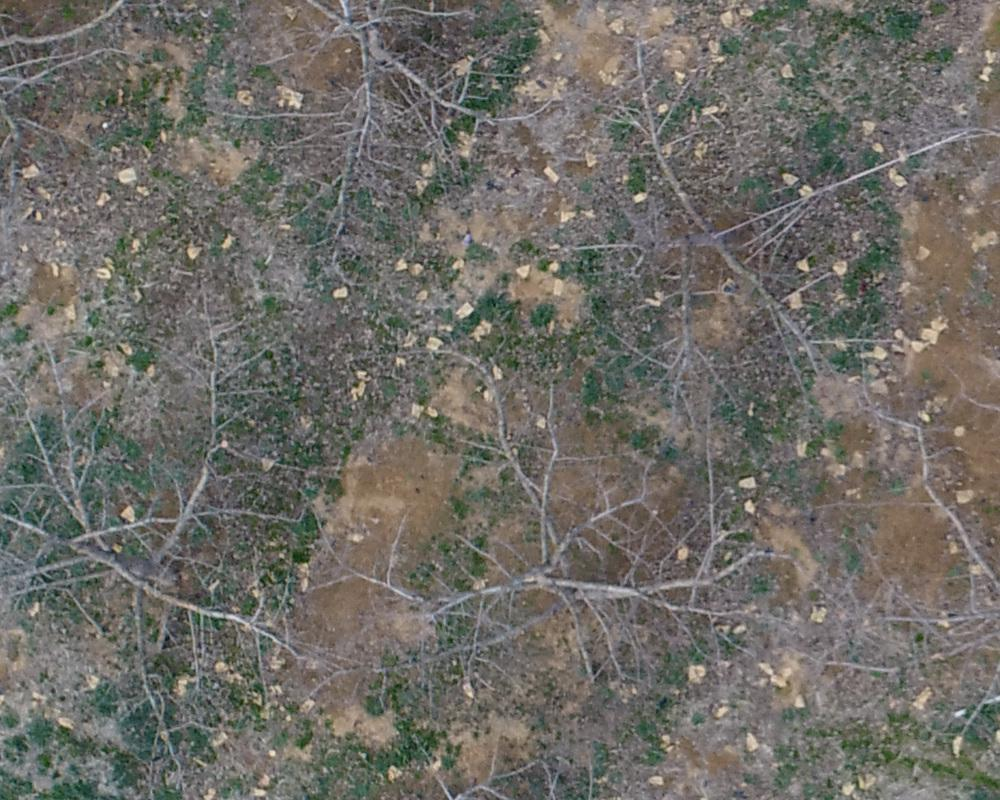apple: (315, 344, 804, 712), (538, 48, 987, 398), (10, 325, 320, 790), (185, 10, 550, 279), (787, 402, 990, 789)
